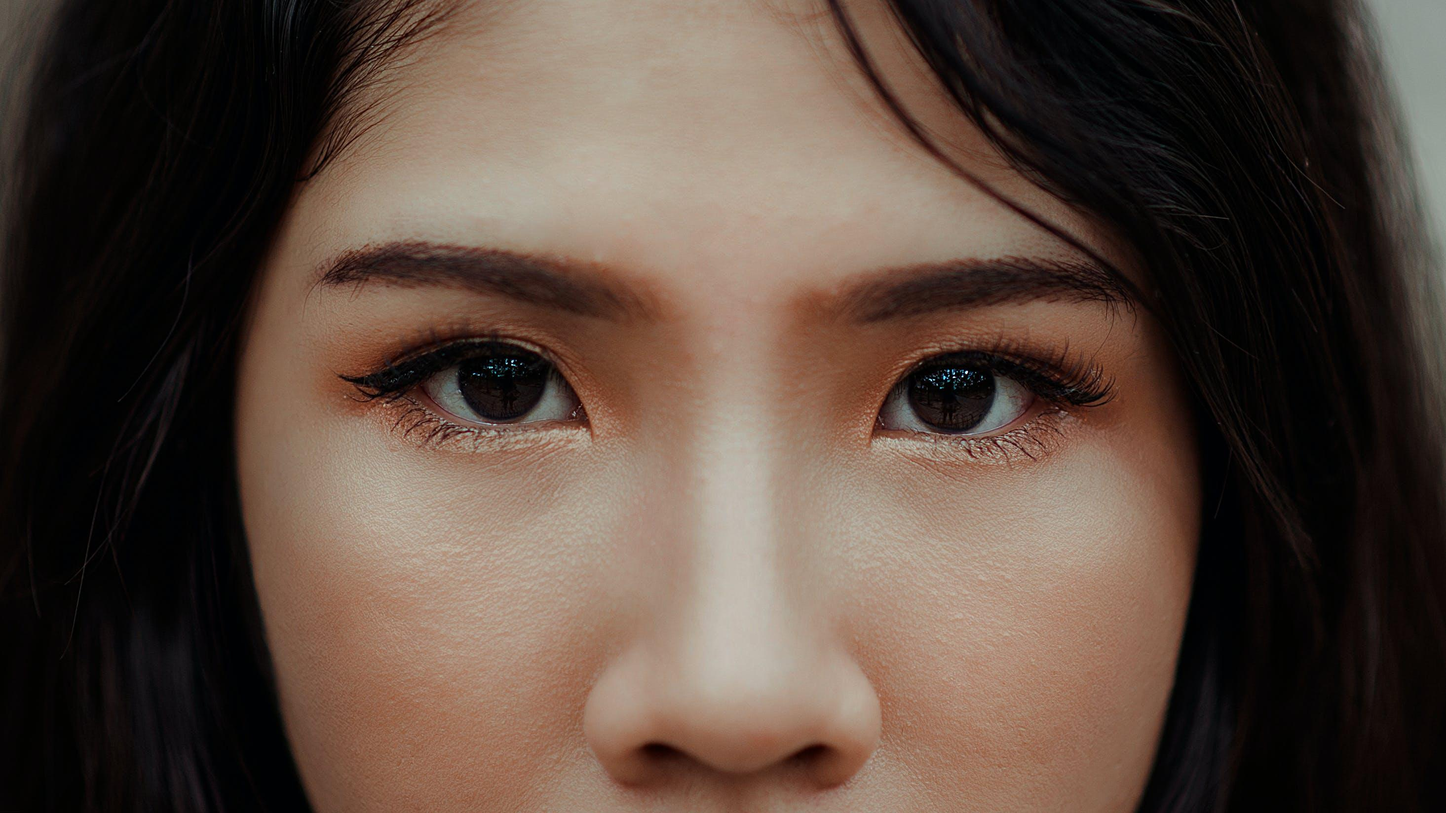Eyes: (328, 295, 648, 467), (837, 313, 1116, 482)
